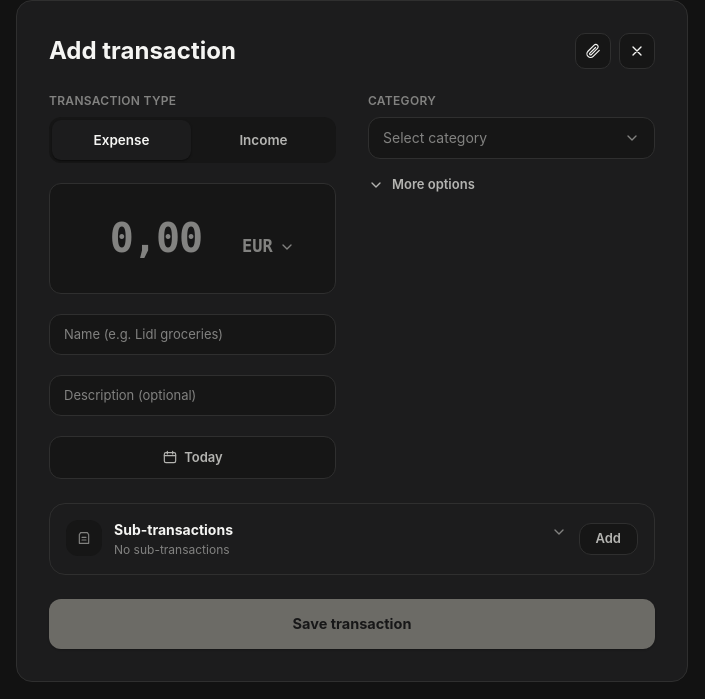
Test: AddTransactionPage › disables saving until a category, name, and amount are all set
The image size is (705, 699).
Expected: the button "Save transaction" is disabled, [49,599,655,649]
In the field named "Transaction name": (192, 335) [49,314,336,355], type "Coffee"
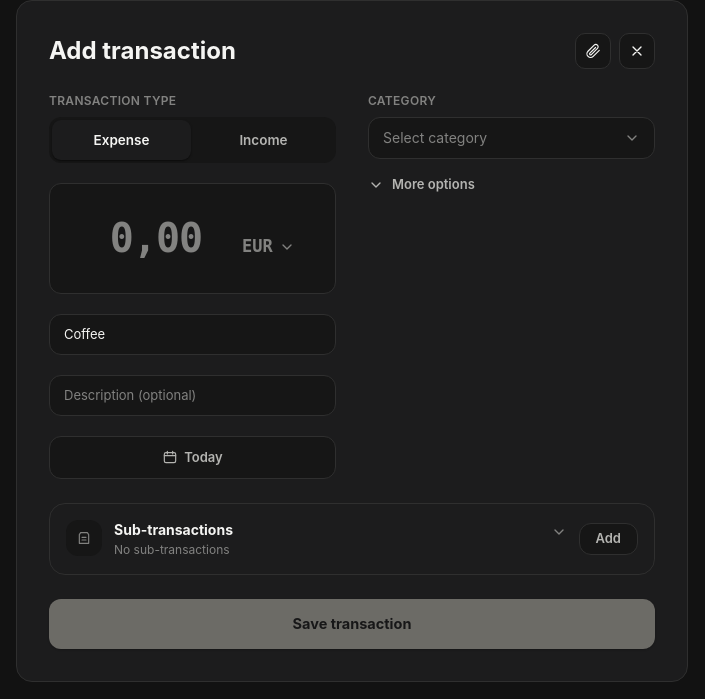
In the field named "Amount": (156, 239) [84,200,228,277], type "25"
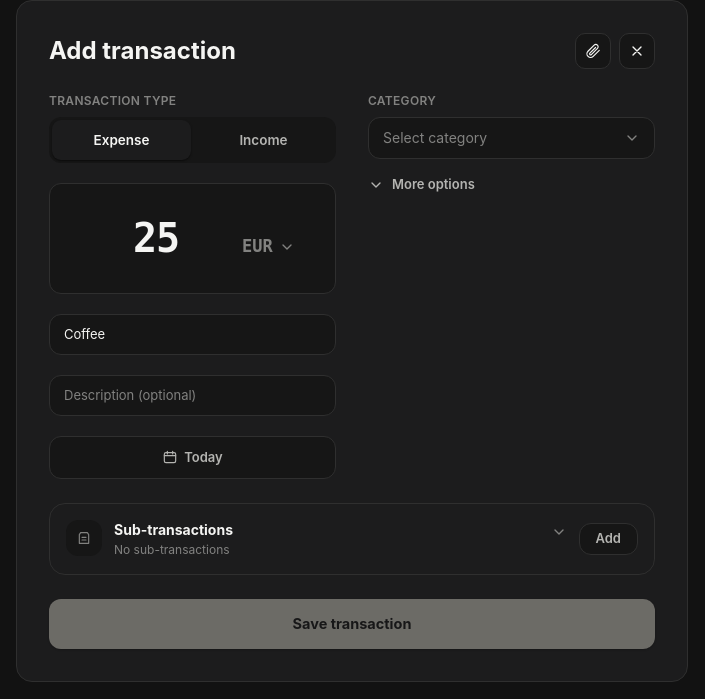
Expected: the button "Save transaction" is disabled, [49,599,655,649]
Click the button "Select category": (435, 138) [368,117,655,159]
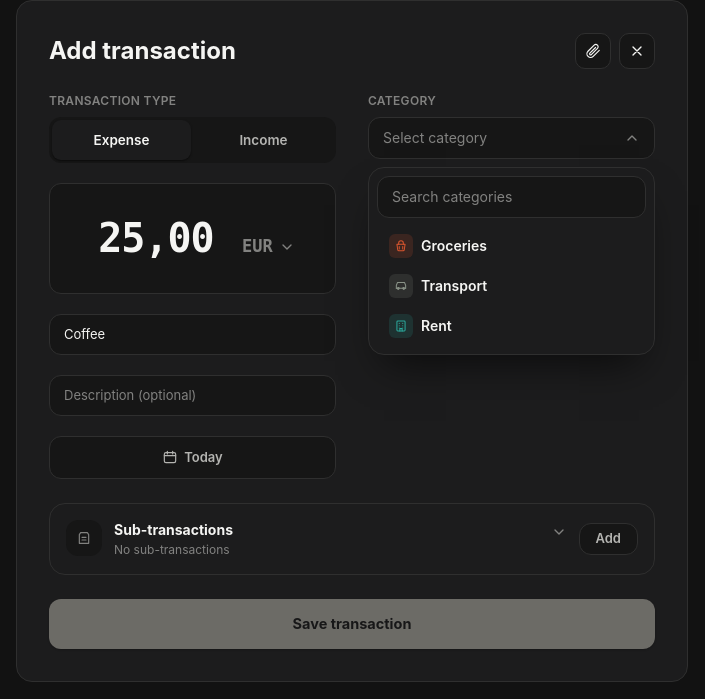
Click the button "Groceries": (454, 246) [377,226,646,266]
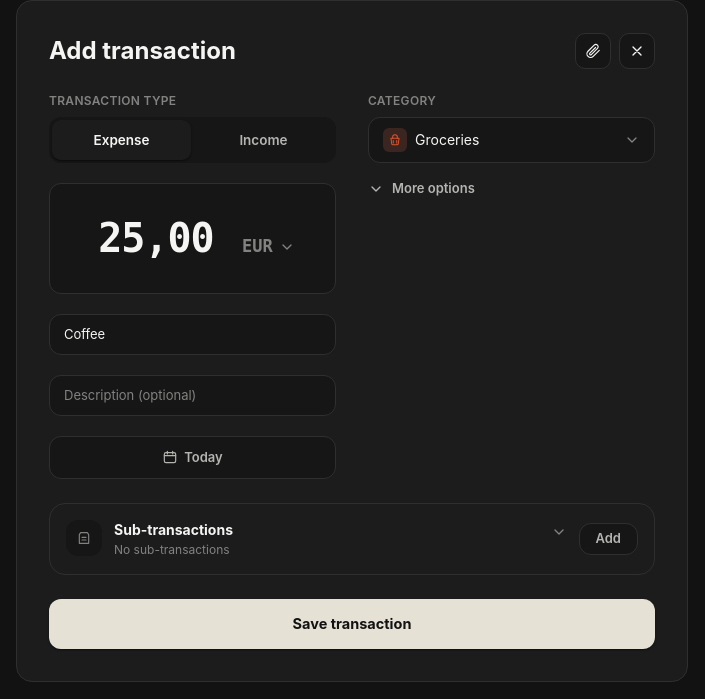
Expected: the button "Save transaction" is enabled, [49,599,655,649]
